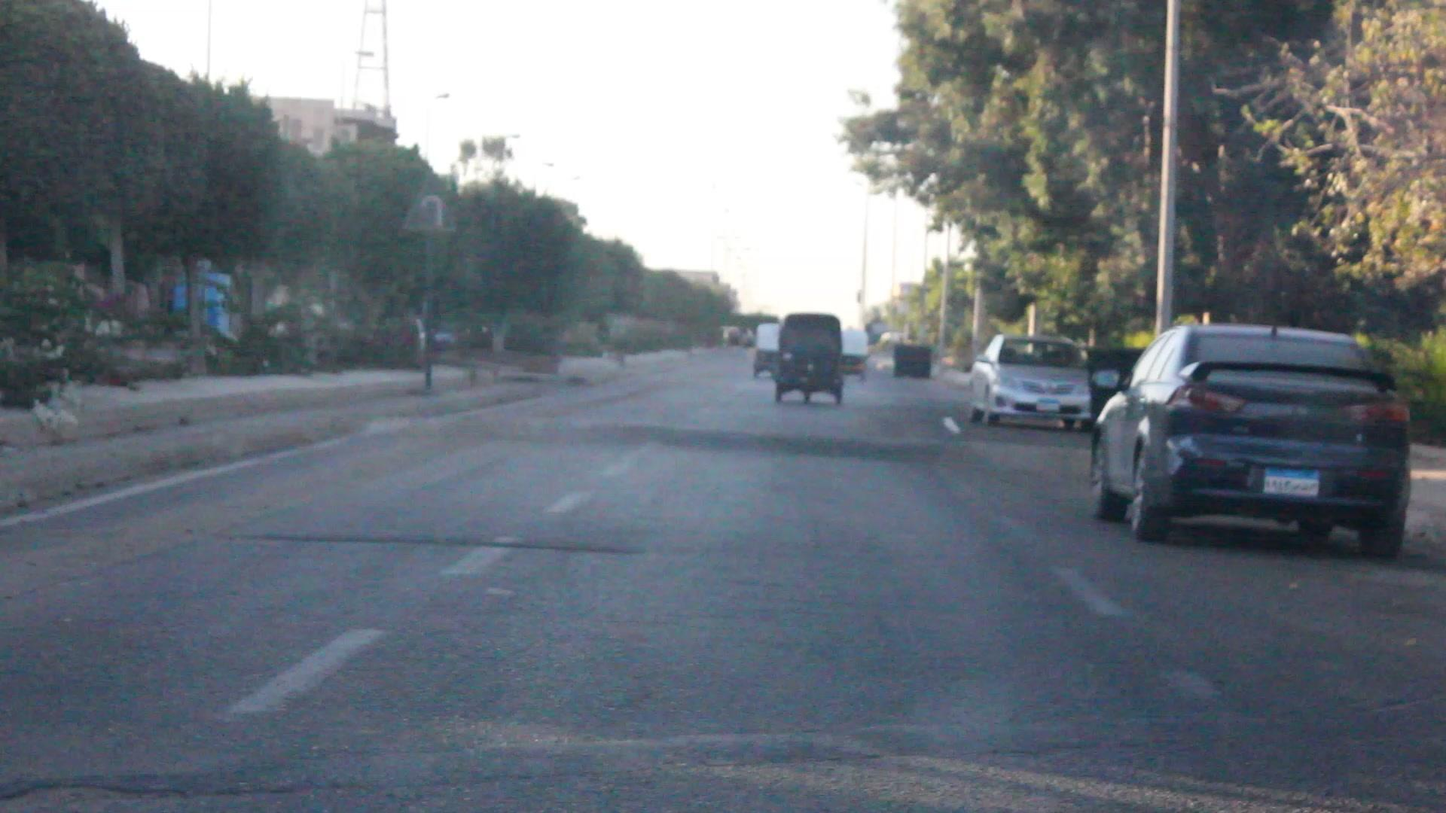Bump: (416, 420, 1073, 480)
